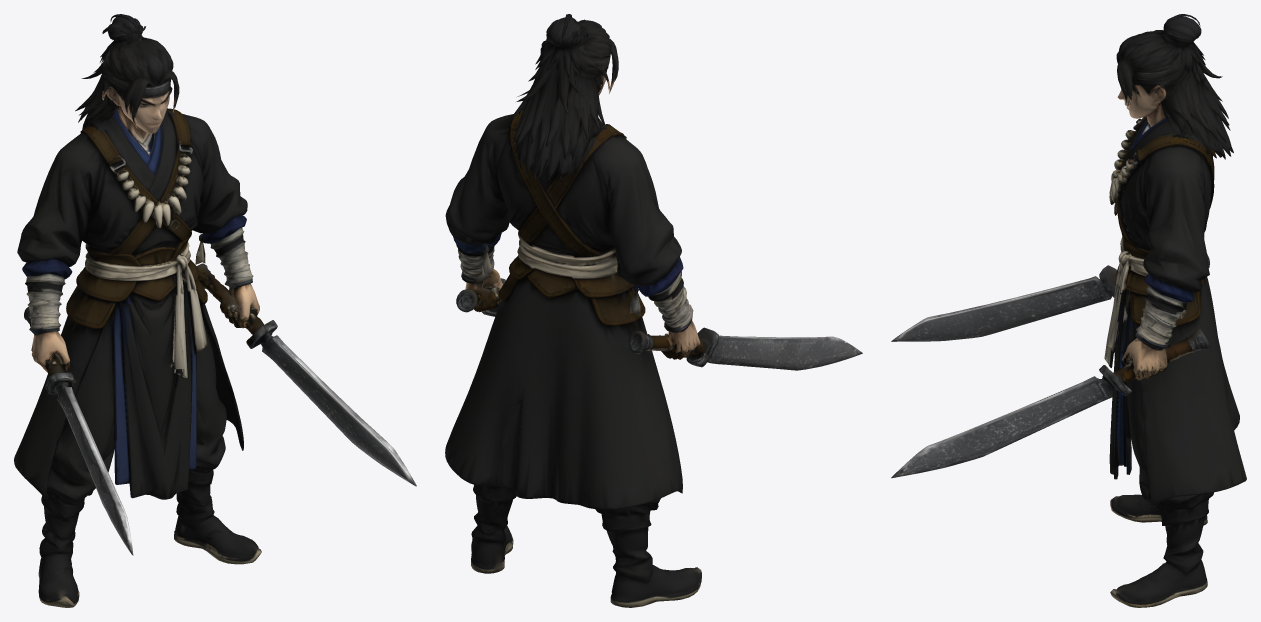
Rendered from wu_song_ai.glb.
3 renders of one model, left to right at view 1: azimuth 30°, elevation 25°; view 2: azimuth 150°, elevation 25°; view 3: azimuth 270°, elevation 25°, orthographic. The views are drawn at different scales.
Visible parts, largest first — view 1: node_0; view 2: node_0; view 3: node_0.
Part boxes in pixels (x1,y1,x2,y2): node_0: (14, 14, 416, 607); node_0: (445, 14, 862, 607); node_0: (891, 14, 1246, 607).
Bounding box in the file's own units: 0.5803 × 1.07 × 0.6381.
1 material, 1 textured.
